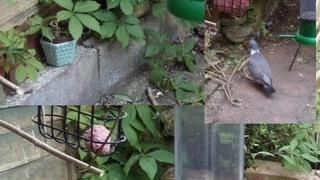wood pigeon: (247, 40, 276, 94)
